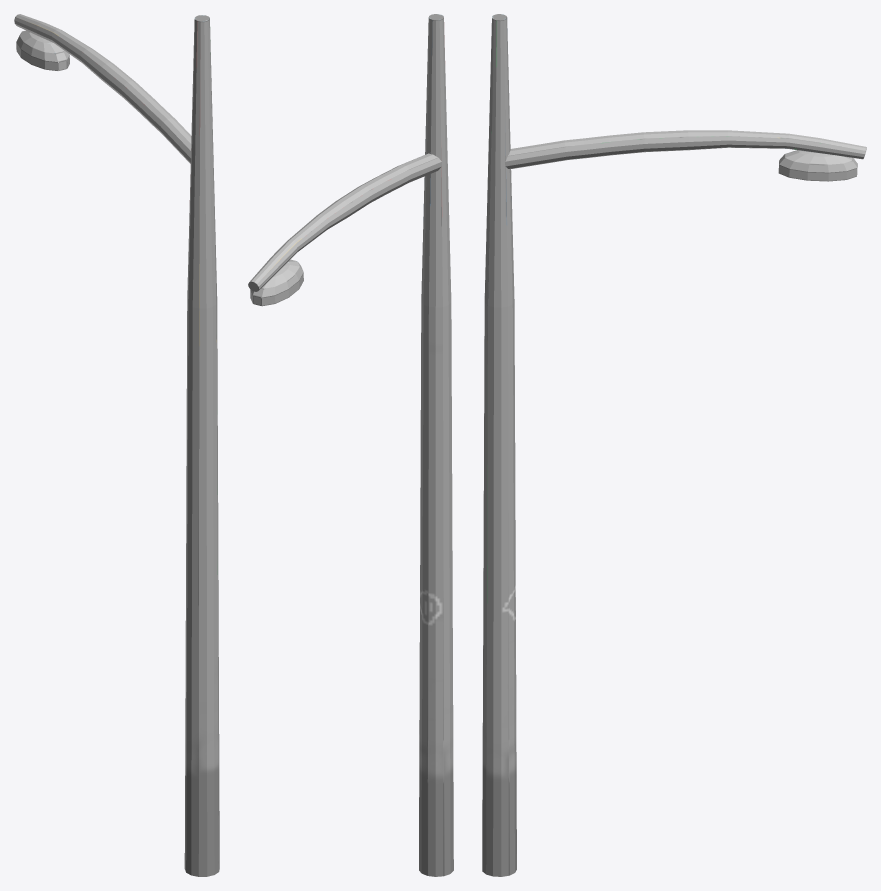
The model's file is Poste.fbx.
3 renders of one model, left to right at view 1: azimuth 30°, elevation 25°; view 2: azimuth 150°, elevation 25°; view 3: azimuth 270°, elevation 25°, orthographic.
Visible parts, largest first — view 1: cylinder, cylinder_1, sphere; view 2: cylinder, cylinder_1, sphere; view 3: cylinder, cylinder_1, sphere.
Part boxes in pixels (box(x1,y1,x2,y2)): cylinder: box(184, 15, 219, 876); cylinder_1: box(14, 14, 191, 163); sphere: box(16, 30, 69, 70); cylinder: box(419, 14, 453, 876); cylinder_1: box(248, 153, 441, 291); sphere: box(250, 259, 303, 306); cylinder: box(482, 14, 516, 876); cylinder_1: box(505, 130, 866, 169); sphere: box(778, 150, 857, 181).
Bounding box in the file's own units: 50 × 1200 × 491.
Materials: 3 (3 with a texture image).
